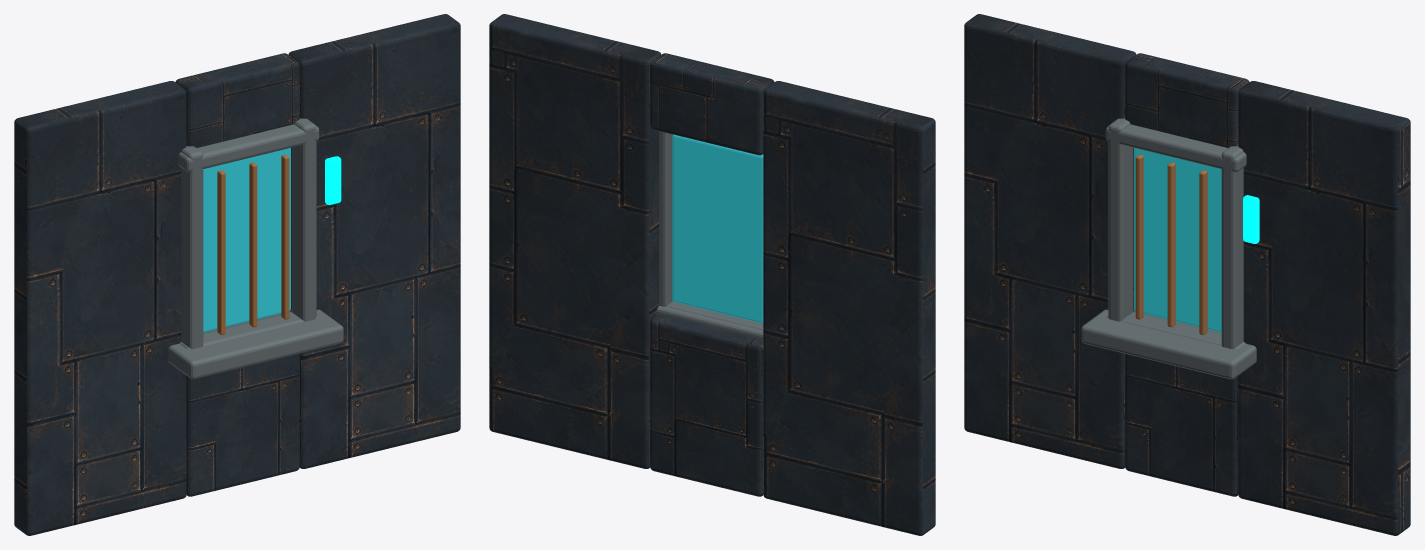
File: APT_Wall_Window_Slot_300x270.glb
3 renders of one model, left to right at view 1: azimuth 30°, elevation 25°; view 2: azimuth 150°, elevation 25°; view 3: azimuth 330°, elevation 25°, orthographic.
Parts seen in each view (by area): view 1: APT_Wall_Window_Slot_300x270_LeftPier, APT_Wall_Window_Slot_300x270_RightPier, APT_Wall_Window_Slot_300x270_LowerWall, APT_Wall_Window_Slot_300x270_Glass, APT_Wall_Window_Slot_300x270_Header, APT_Wall_Window_Slot_300x270_Sill, APT_Wall_Window_Slot_300x270_FrameSide_0.39, APT_Wall_Window_Slot_300x270_FrameSide_-0.39, APT_Wall_Window_Slot_300x270_FrameRail_2.25, APT_Wall_Window_Slot_300x270_Guard_1, APT_Wall_Window_Slot_300x270_Guard_0, APT_Wall_Window_Slot_300x270_Guard_2 (+2 smaller); view 2: APT_Wall_Window_Slot_300x270_LeftPier, APT_Wall_Window_Slot_300x270_RightPier, APT_Wall_Window_Slot_300x270_LowerWall, APT_Wall_Window_Slot_300x270_Glass, APT_Wall_Window_Slot_300x270_Header, APT_Wall_Window_Slot_300x270_FrameSide_0.39, APT_Wall_Window_Slot_300x270_Sill, APT_Wall_Window_Slot_300x270_FrameRail_1.0; view 3: APT_Wall_Window_Slot_300x270_RightPier, APT_Wall_Window_Slot_300x270_LeftPier, APT_Wall_Window_Slot_300x270_LowerWall, APT_Wall_Window_Slot_300x270_Glass, APT_Wall_Window_Slot_300x270_Header, APT_Wall_Window_Slot_300x270_Sill, APT_Wall_Window_Slot_300x270_FrameSide_-0.39, APT_Wall_Window_Slot_300x270_FrameSide_0.39, APT_Wall_Window_Slot_300x270_FrameRail_2.25, APT_Wall_Window_Slot_300x270_Guard_1, APT_Wall_Window_Slot_300x270_Guard_0, APT_Wall_Window_Slot_300x270_Guard_2 (+2 smaller).
Boxes of the visible parts, box(x1,y1,x2,y2) form: APT_Wall_Window_Slot_300x270_LeftPier: box(14, 81, 186, 535); APT_Wall_Window_Slot_300x270_RightPier: box(288, 14, 460, 468); APT_Wall_Window_Slot_300x270_LowerWall: box(186, 353, 299, 496); APT_Wall_Window_Slot_300x270_Glass: box(203, 148, 290, 332); APT_Wall_Window_Slot_300x270_Header: box(175, 53, 299, 147); APT_Wall_Window_Slot_300x270_Sill: box(168, 309, 343, 379); APT_Wall_Window_Slot_300x270_FrameSide_0.39: box(291, 118, 316, 321); APT_Wall_Window_Slot_300x270_FrameSide_-0.39: box(181, 146, 203, 348); APT_Wall_Window_Slot_300x270_FrameRail_2.25: box(178, 124, 319, 172); APT_Wall_Window_Slot_300x270_Guard_1: box(249, 162, 257, 327); APT_Wall_Window_Slot_300x270_Guard_0: box(217, 170, 225, 334); APT_Wall_Window_Slot_300x270_Guard_2: box(281, 154, 289, 319); APT_Wall_Window_Slot_300x270_LeftPier: box(763, 81, 935, 535); APT_Wall_Window_Slot_300x270_RightPier: box(489, 14, 661, 468); APT_Wall_Window_Slot_300x270_LowerWall: box(650, 314, 763, 496); APT_Wall_Window_Slot_300x270_Glass: box(672, 134, 763, 323); APT_Wall_Window_Slot_300x270_Header: box(650, 53, 774, 155); APT_Wall_Window_Slot_300x270_FrameSide_0.39: box(659, 131, 672, 306); APT_Wall_Window_Slot_300x270_Sill: box(656, 306, 763, 339); APT_Wall_Window_Slot_300x270_FrameRail_1.0: box(666, 301, 763, 330); APT_Wall_Window_Slot_300x270_RightPier: box(1238, 81, 1410, 535); APT_Wall_Window_Slot_300x270_LeftPier: box(964, 14, 1136, 468); APT_Wall_Window_Slot_300x270_LowerWall: box(1125, 353, 1238, 496); APT_Wall_Window_Slot_300x270_Glass: box(1134, 148, 1221, 332); APT_Wall_Window_Slot_300x270_Header: box(1125, 53, 1249, 147); APT_Wall_Window_Slot_300x270_Sill: box(1081, 309, 1256, 379); APT_Wall_Window_Slot_300x270_FrameSide_-0.39: box(1108, 118, 1133, 321); APT_Wall_Window_Slot_300x270_FrameSide_0.39: box(1221, 146, 1243, 348); APT_Wall_Window_Slot_300x270_FrameRail_2.25: box(1105, 124, 1246, 172); APT_Wall_Window_Slot_300x270_Guard_1: box(1167, 162, 1175, 327); APT_Wall_Window_Slot_300x270_Guard_0: box(1135, 154, 1143, 319); APT_Wall_Window_Slot_300x270_Guard_2: box(1199, 170, 1207, 334).
Bounding box in the file's own units: 3 × 2.7 × 0.46.
5 materials, 1 textured.
